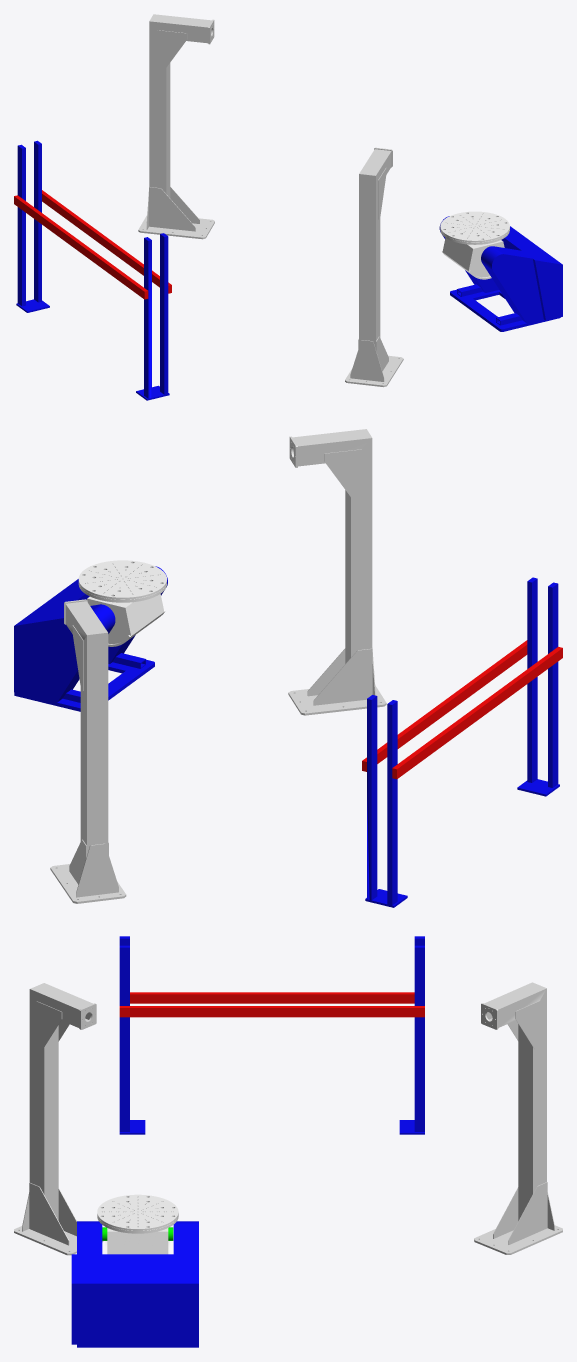
Rendered from AccessoriesRigged.fbx.
3 renders of one model, top to bottom at view 1: azimuth 30°, elevation 25°; view 2: azimuth 150°, elevation 25°; view 3: azimuth 270°, elevation 25°, orthographic. The views are drawn at different scales.
Visible parts, largest first — view 1: Support.001, Support.004, BatiTable, Support.002, Plateau8, Plateau7; view 2: Support.001, Support.002, Support.004, BatiTable, Plateau8, Plateau7; view 3: BatiTable, Support.001, Support.004, Support.002, Plateau8, Plateau7.
Boxes of the visible parts, x1=… form: Support.001: x1=14, y1=140, x2=171, y2=400; Support.004: x1=138, y1=14, x2=214, y2=239; BatiTable: x1=439, y1=216, x2=562, y2=331; Support.002: x1=345, y1=147, x2=403, y2=387; Plateau8: x1=440, y1=211, x2=509, y2=244; Plateau7: x1=442, y1=238, x2=504, y2=279; Support.001: x1=362, y1=577, x2=562, y2=907; Support.002: x1=288, y1=429, x2=386, y2=715; Support.004: x1=50, y1=599, x2=126, y2=903; BatiTable: x1=14, y1=566, x2=167, y2=711; Plateau8: x1=78, y1=560, x2=166, y2=602; Plateau7: x1=87, y1=594, x2=165, y2=646; BatiTable: x1=71, y1=1221, x2=198, y2=1347; Support.001: x1=119, y1=936, x2=424, y2=1134; Support.004: x1=474, y1=982, x2=562, y2=1254; Support.002: x1=14, y1=983, x2=103, y2=1255; Plateau8: x1=97, y1=1194, x2=178, y2=1233; Plateau7: x1=105, y1=1228, x2=170, y2=1254.
Size of the model in its own units: 528 by 263 by 540.
